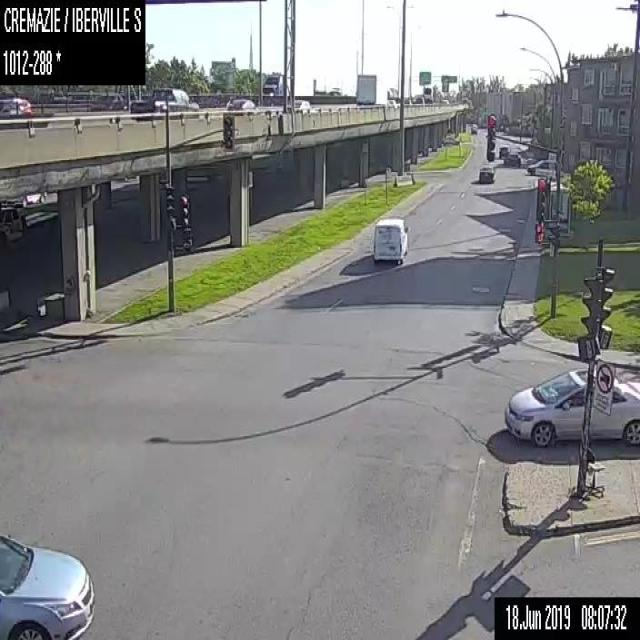vehicle: (502, 367, 639, 449), (0, 532, 95, 639), (130, 86, 199, 120), (262, 70, 313, 105), (371, 215, 407, 262), (355, 70, 389, 106), (0, 95, 32, 117), (90, 91, 126, 109), (225, 95, 259, 113), (526, 157, 556, 176), (478, 162, 496, 182), (503, 152, 520, 168), (294, 97, 311, 112), (498, 143, 511, 158), (442, 133, 459, 144), (422, 83, 432, 101), (329, 86, 342, 95), (387, 98, 399, 107), (414, 95, 424, 105), (440, 98, 448, 106), (470, 125, 477, 134)
